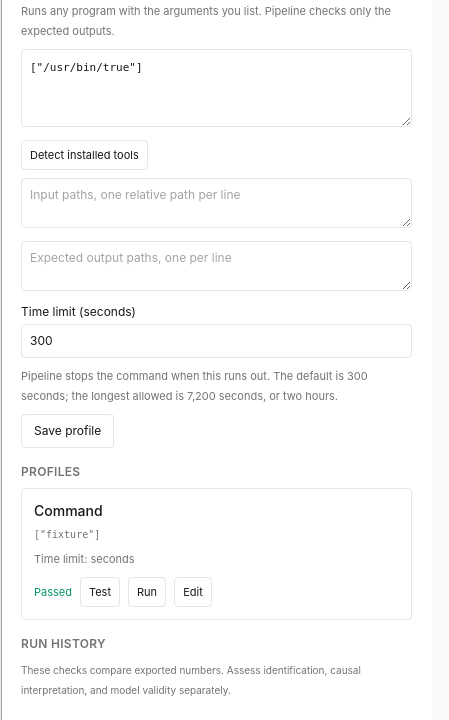
Test: retains a pending host execution preview when leaving and returning to Results
(page scrolled)
Click the button "Test": x=100, y=592 [80,577,120,607]
(page scrolled)
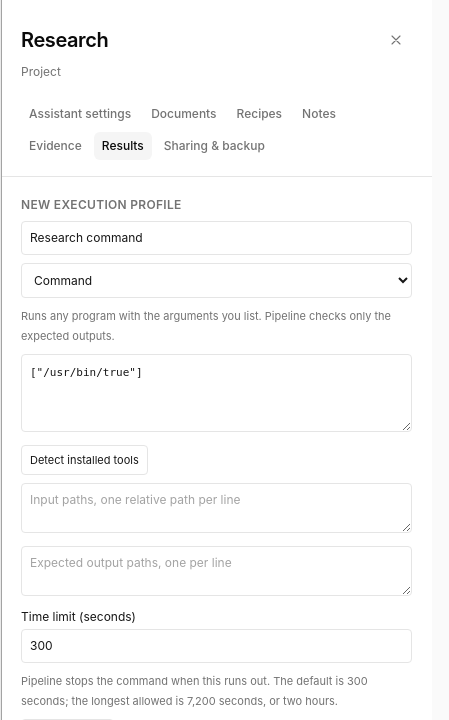
Click the button "Notes": x=319, y=114 [294,100,344,128]
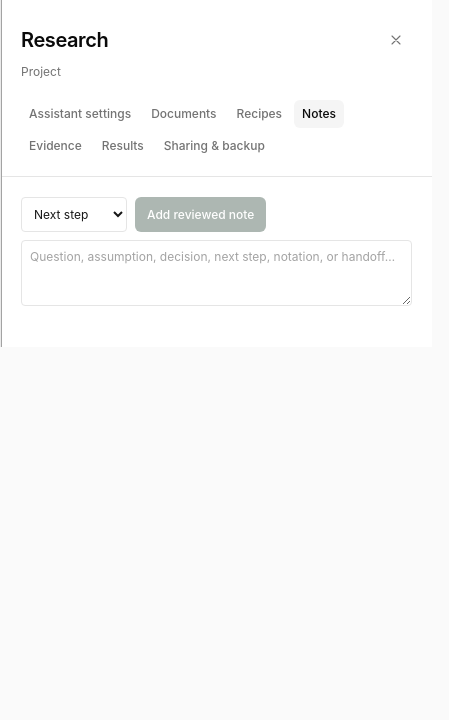
Click the button "Results": x=123, y=146 [94,132,152,160]
(page scrolled)
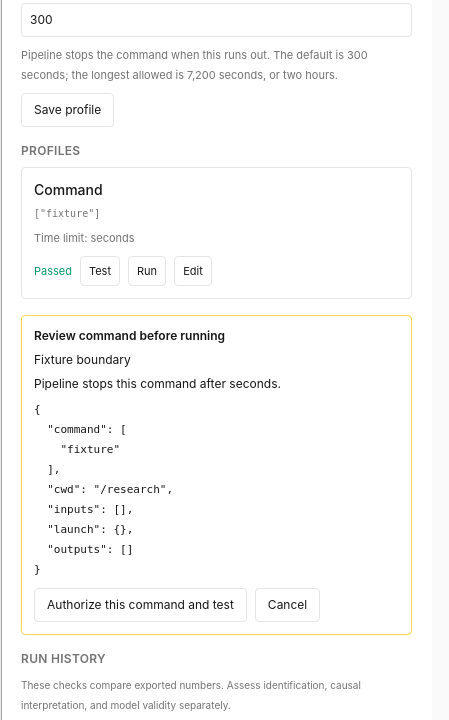
Check: the text "Fixture boundary" is shown, box [34,352,131,367]
